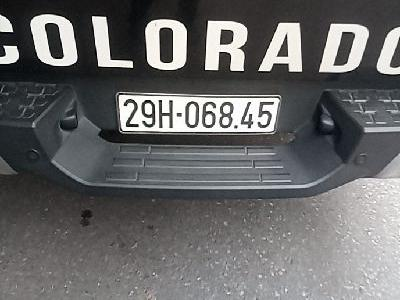lisence: (114, 91, 281, 136)
